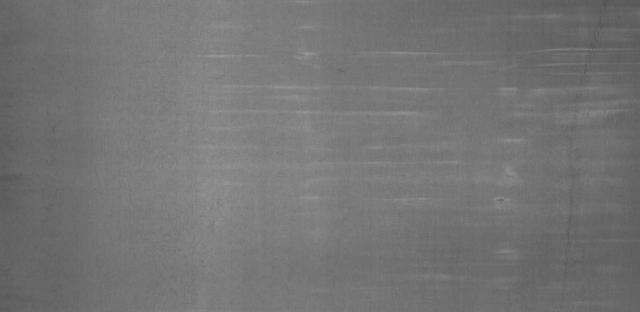waist_folding: (358, 32, 552, 274)
